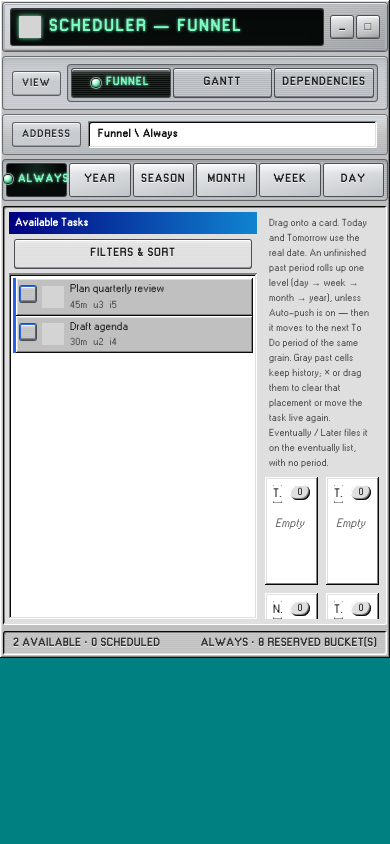
it: EnhancedScheduler › shows Deselect all beside Remove from Scheduler and clears selection only
The image size is (390, 844).
What coordinates should you click on to do the following:
click the checkbox next to "Plan quarterly review"
I would click on:
 (28, 294)
Its box is [20,286,36,302].
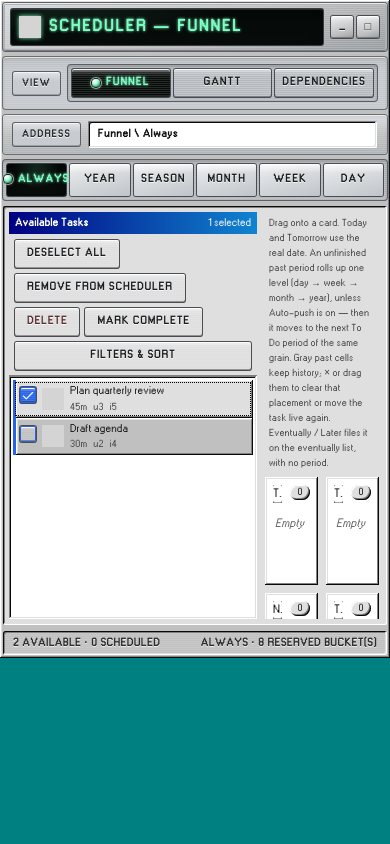
Expected: the text "1 selected" is shown, [208,214,251,231]
Expected: the button "Deselect all" is shown
Expected: the button "Remove from Scheduler" is shown, [15,274,185,302]
What coordinates should you click on to do the following:
click the button "Deselect all"
I would click on:
 (67, 254)
Its box is [15,240,119,268].
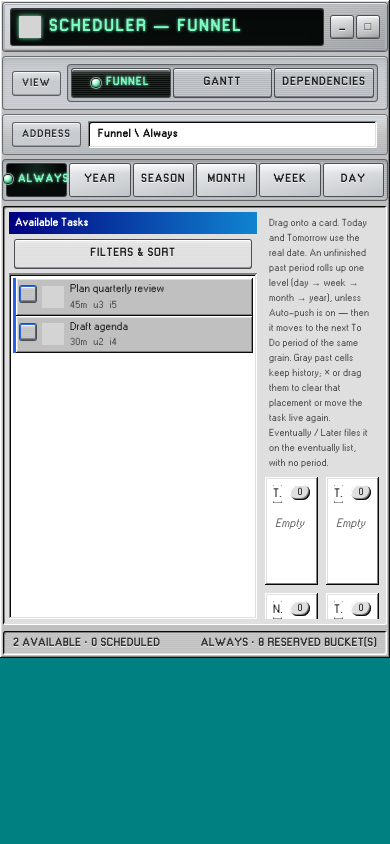
Expected: the text "Plan quarterly review" is shown, [70,284,164,294]
Expected: the text "1 selected" is gone
Expected: the button "Deselect all" is gone
